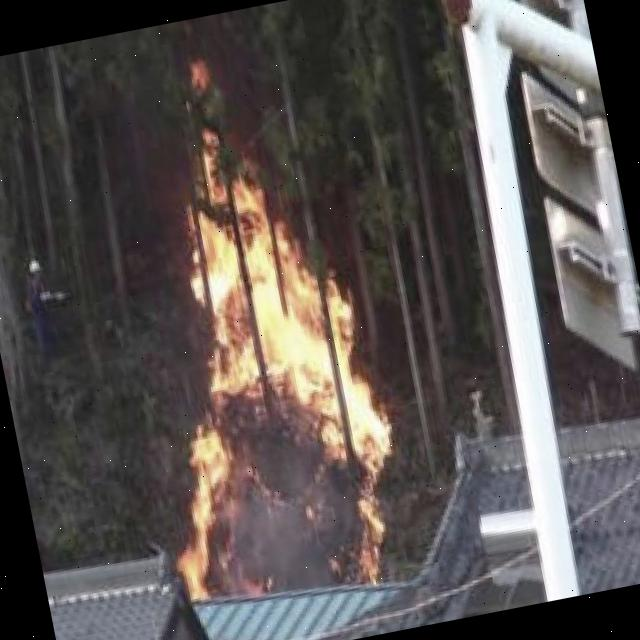fire: (101, 149, 416, 610)
